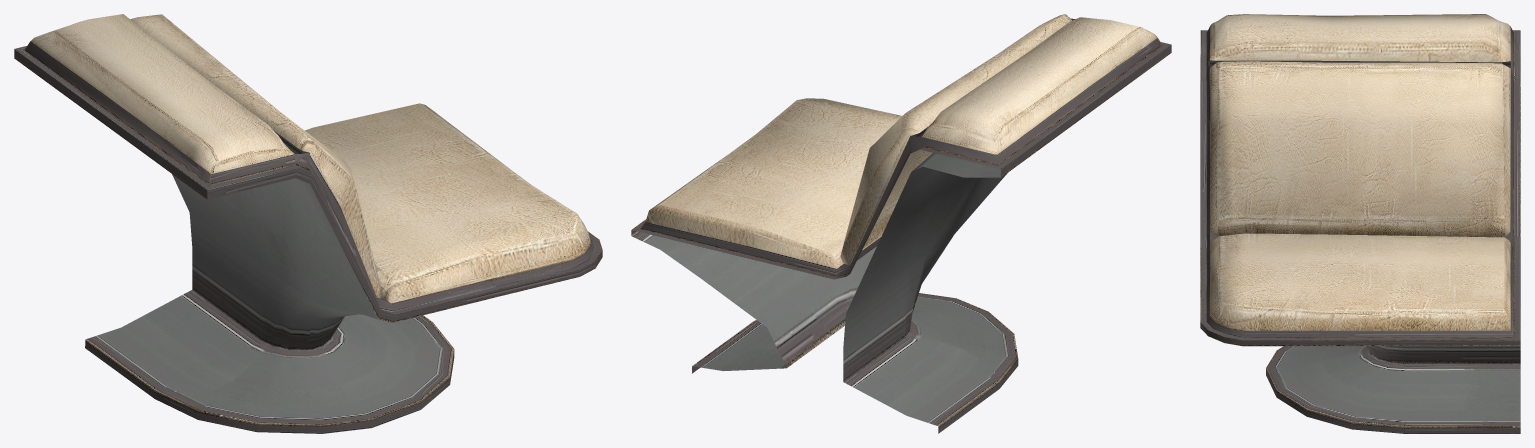
Rendered from Neon_Seat_Cap_01.FBX.
3 views of the same model, side by side, from view 1: azimuth 30°, elevation 25°; view 2: azimuth 150°, elevation 25°; view 3: azimuth 270°, elevation 25° (orthographic). The views are drawn at different scales.
Visible parts, largest first — view 1: Neon_Seat_Cap_01; view 2: Neon_Seat_Cap_01; view 3: Neon_Seat_Cap_01.
Part boxes in pixels (box(x1,y1,x2,y2)): Neon_Seat_Cap_01: box(14, 14, 602, 433); Neon_Seat_Cap_01: box(631, 14, 1171, 433); Neon_Seat_Cap_01: box(1200, 14, 1520, 433).
Size of the model in its own units: 1.25 by 0.995 by 1.
